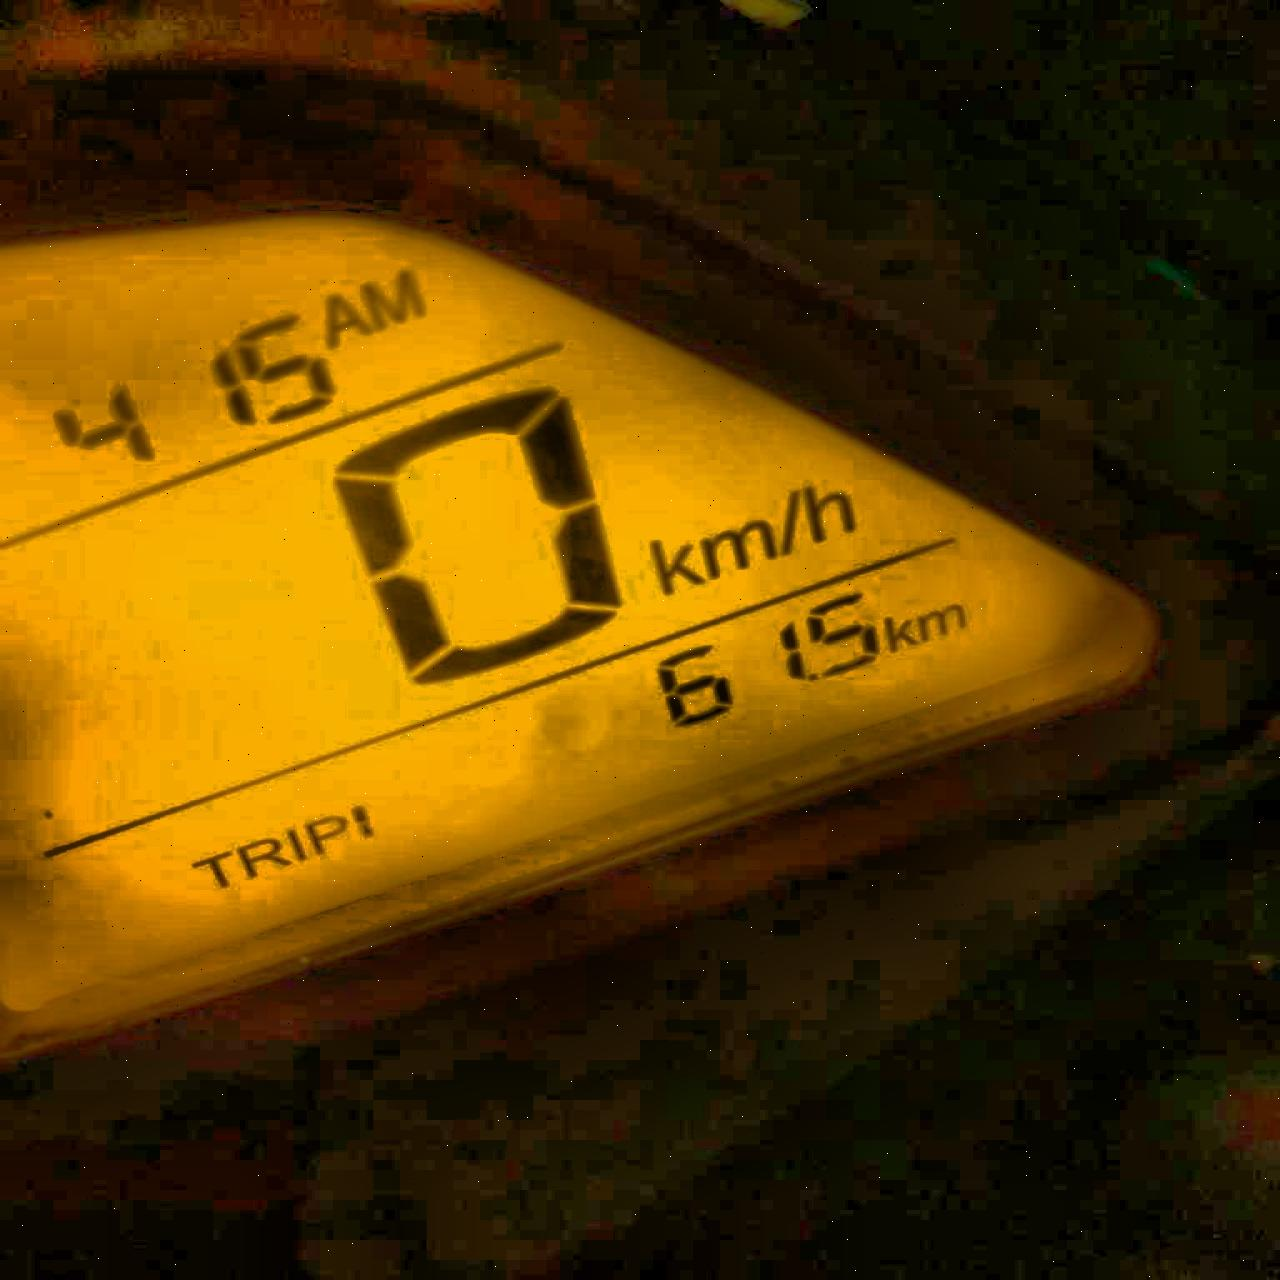-: (805, 670, 818, 685)
0: (328, 386, 621, 685)
1: (205, 349, 250, 433), (774, 620, 805, 680), (348, 802, 375, 837)
4: (53, 388, 150, 474)
5: (238, 313, 328, 422), (806, 590, 877, 675)
6: (655, 644, 731, 727)
X: (703, 519, 775, 580), (360, 268, 425, 327), (645, 535, 700, 594), (799, 482, 853, 539), (327, 294, 367, 347), (917, 602, 967, 642), (237, 836, 286, 876), (305, 816, 343, 853), (190, 851, 229, 886), (778, 489, 798, 553), (881, 613, 913, 652), (287, 828, 304, 862)
odometer: (0, 156, 1178, 1071)
